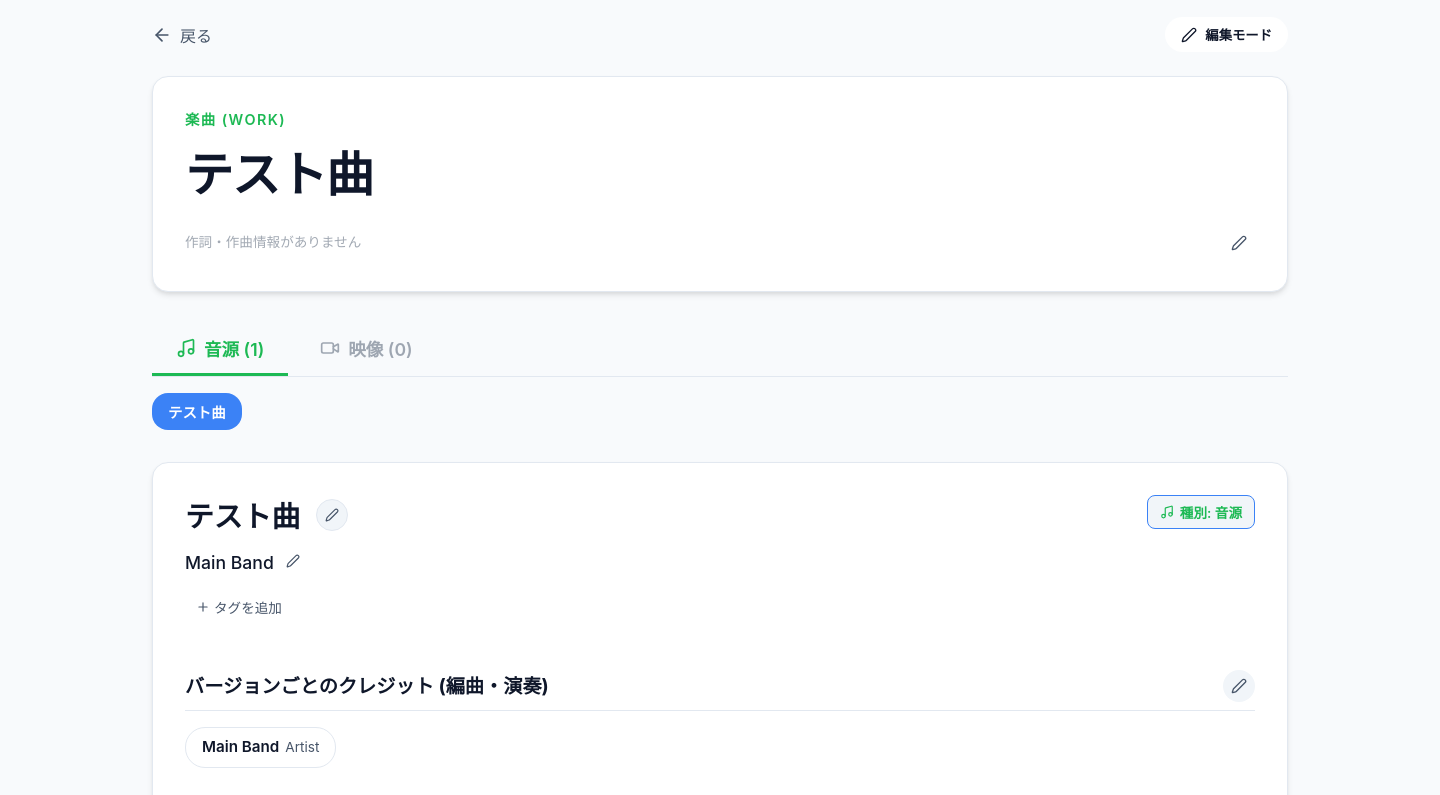
Test: SongDetail クレジット編集シナリオ › クレジット編集ボタン → 2人追加 → 保存 で画面が消えず、2件まとめて登録される
This screenshot has width=1440, height=795.
Click the button titled "クレジットを編集".
click(1239, 686)  # box [1223,670,1255,702]
(page scrolled)
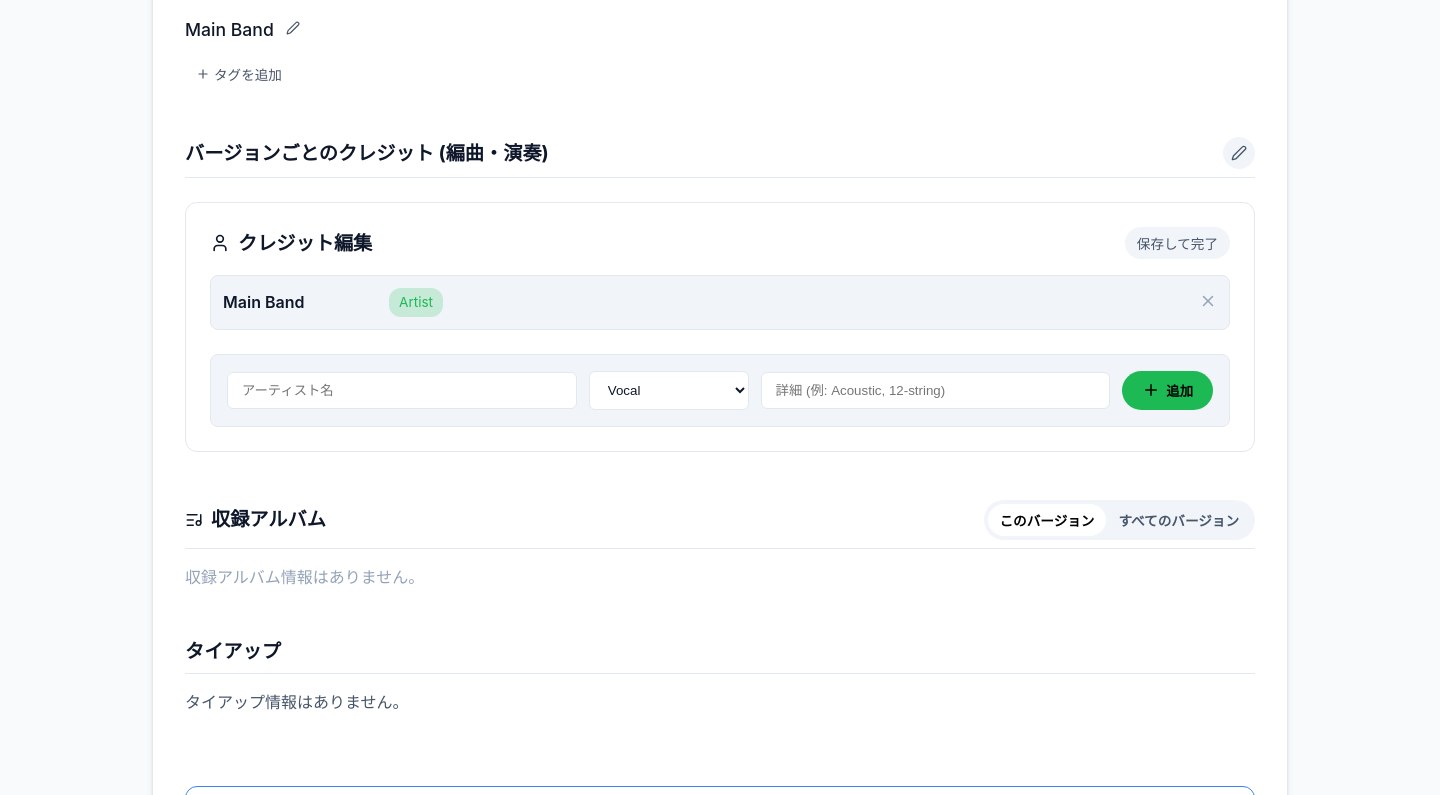
Check: the field with placeholder "アーティスト名" is shown
Type "Guitar Person" into the field with placeholder "アーティスト名".
click(402, 390); type("Guitar Person")  # box [227,372,577,409]
Select "Guitar" in the dropdown at (669, 390), box [589,371,749,410]
Click the button "追加".
click(1168, 390)  # box [1122,371,1213,410]
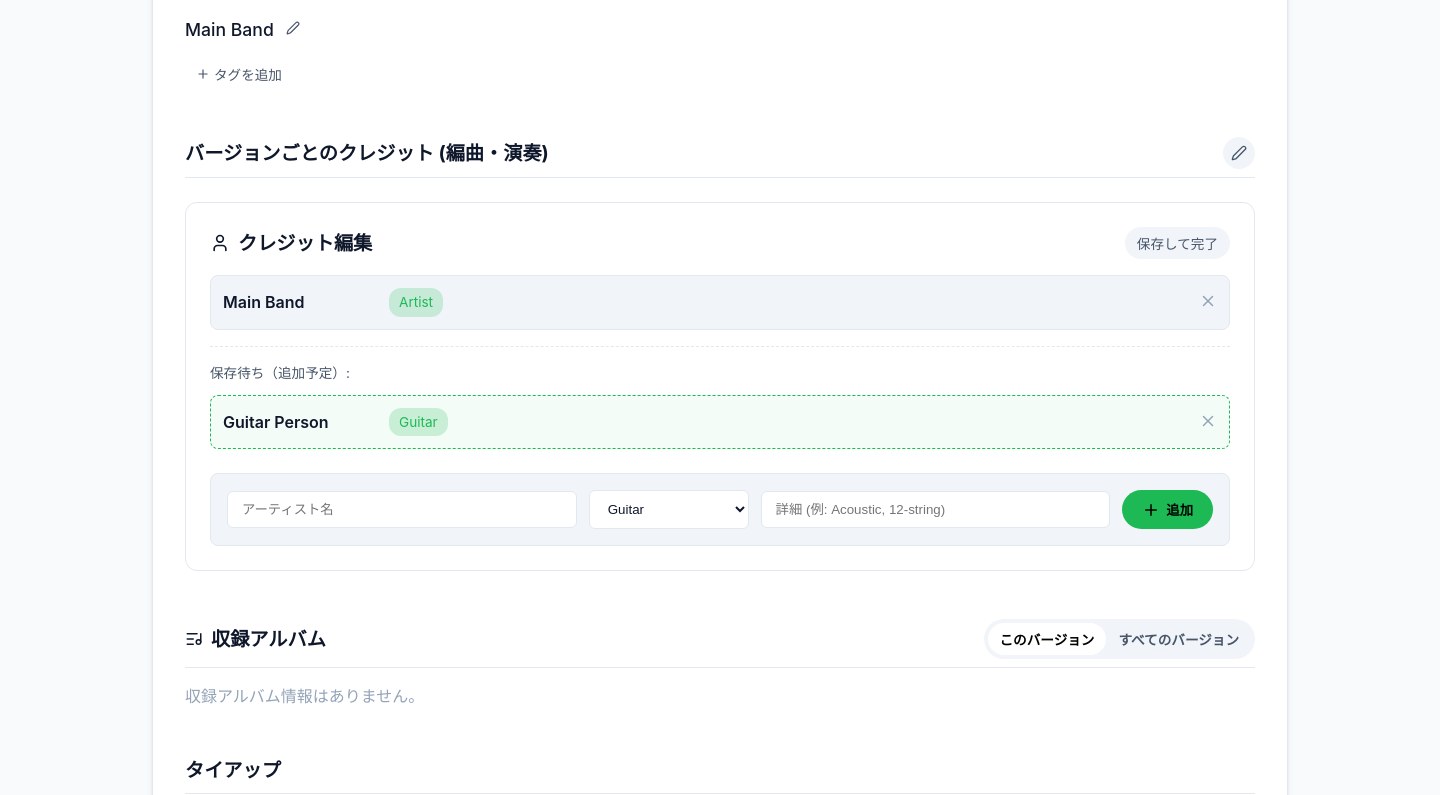
Type "Vocal Person" into the field with placeholder "アーティスト名".
click(402, 510); type("Vocal Person")  # box [227,491,577,528]
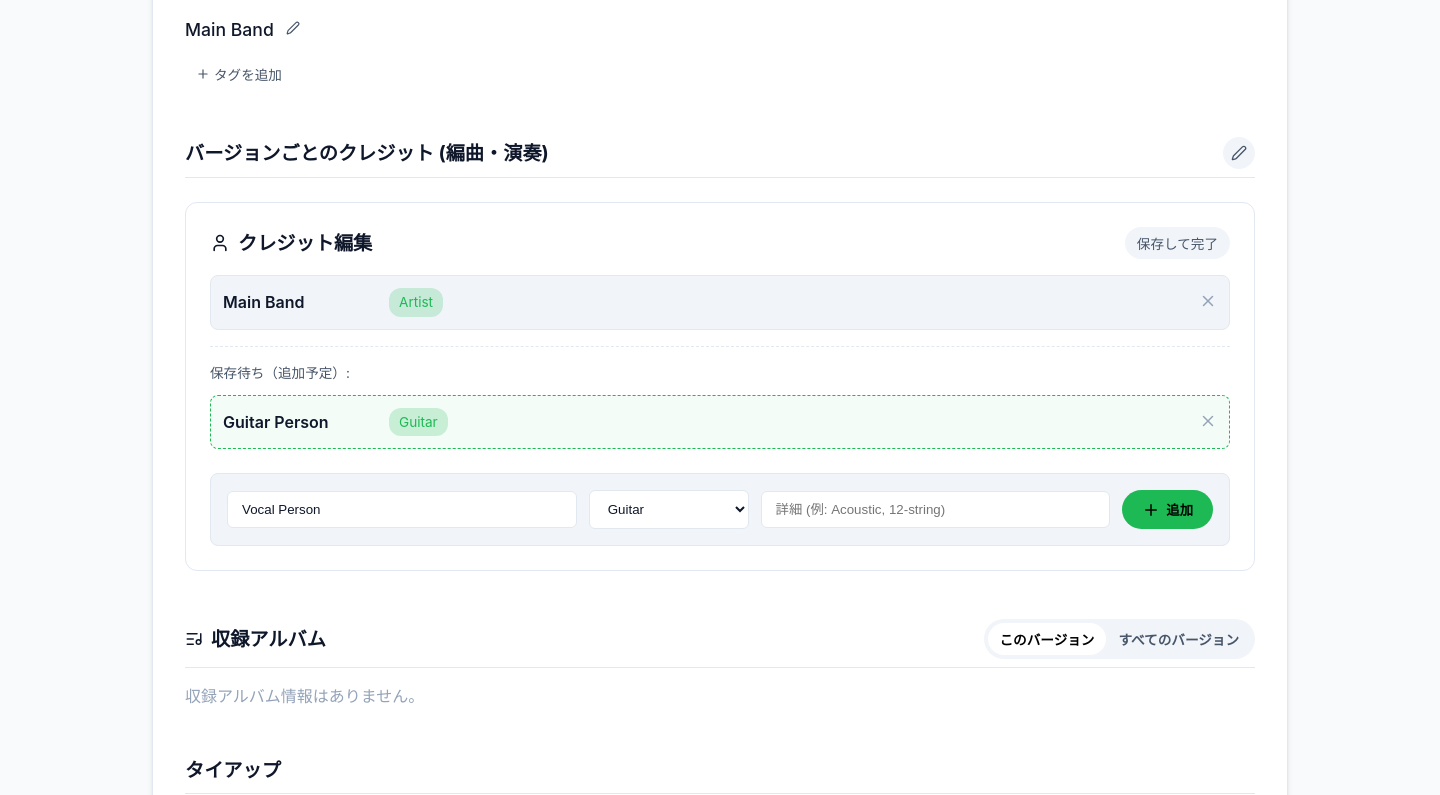
Select "Vocal" in the dropdown at (669, 510), box [589,490,749,529]
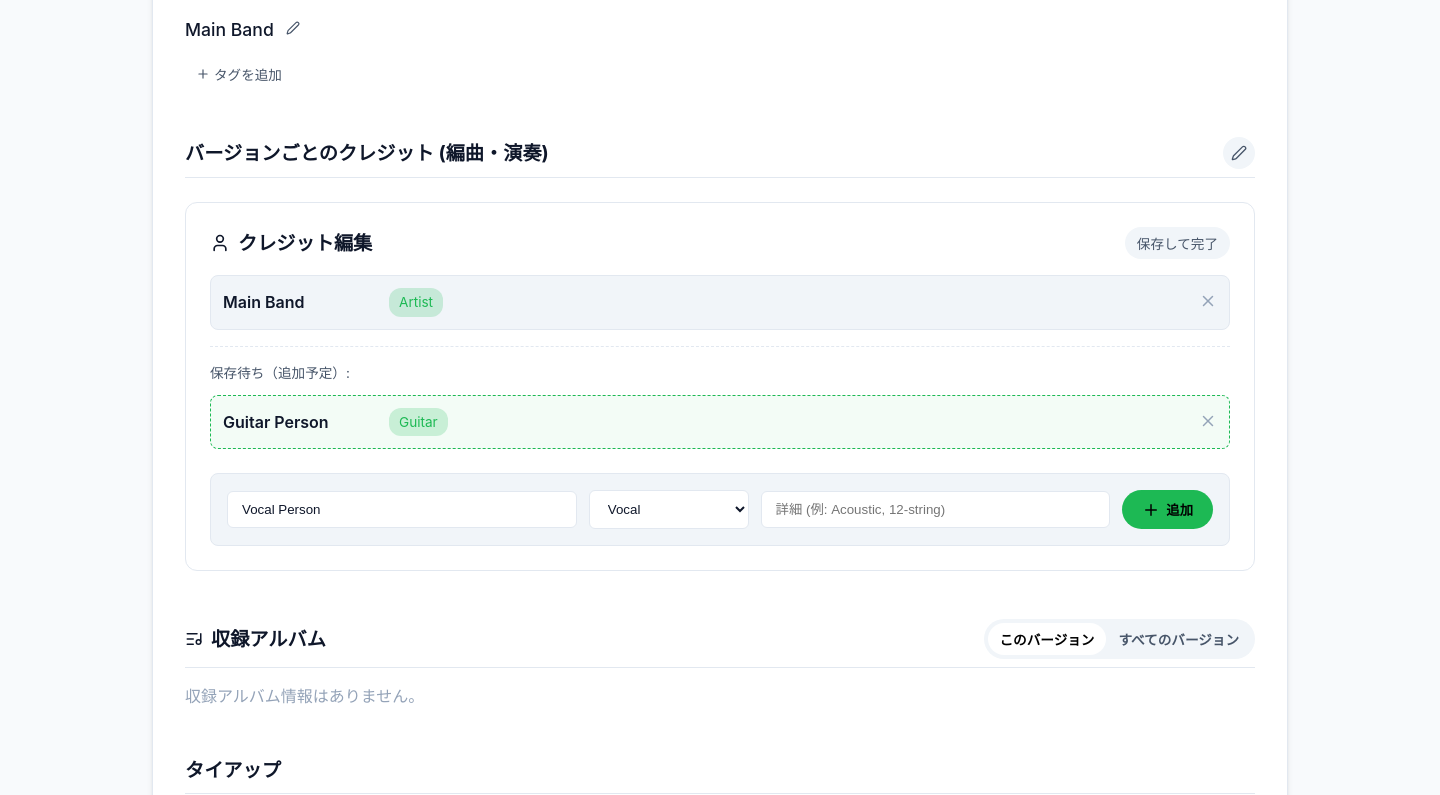
Click the button "追加".
click(1168, 510)  # box [1122,490,1213,529]
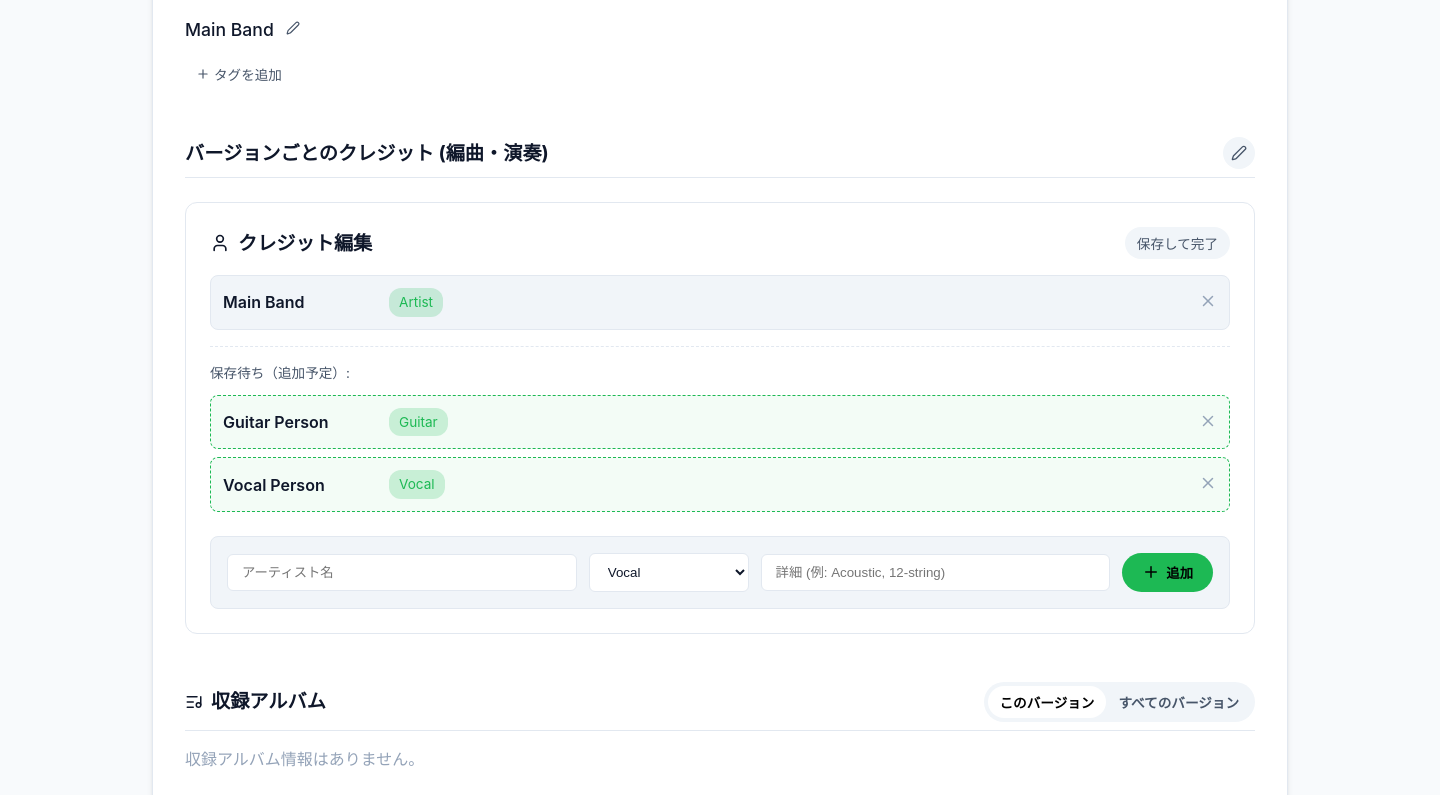
Check: the text "Guitar Person" is shown, box [223,412,329,432]
Check: the text "Vocal Person" is shown, box [223,474,325,494]
Click the button "保存して完了".
click(1177, 243)  # box [1125,227,1230,259]
(page scrolled)
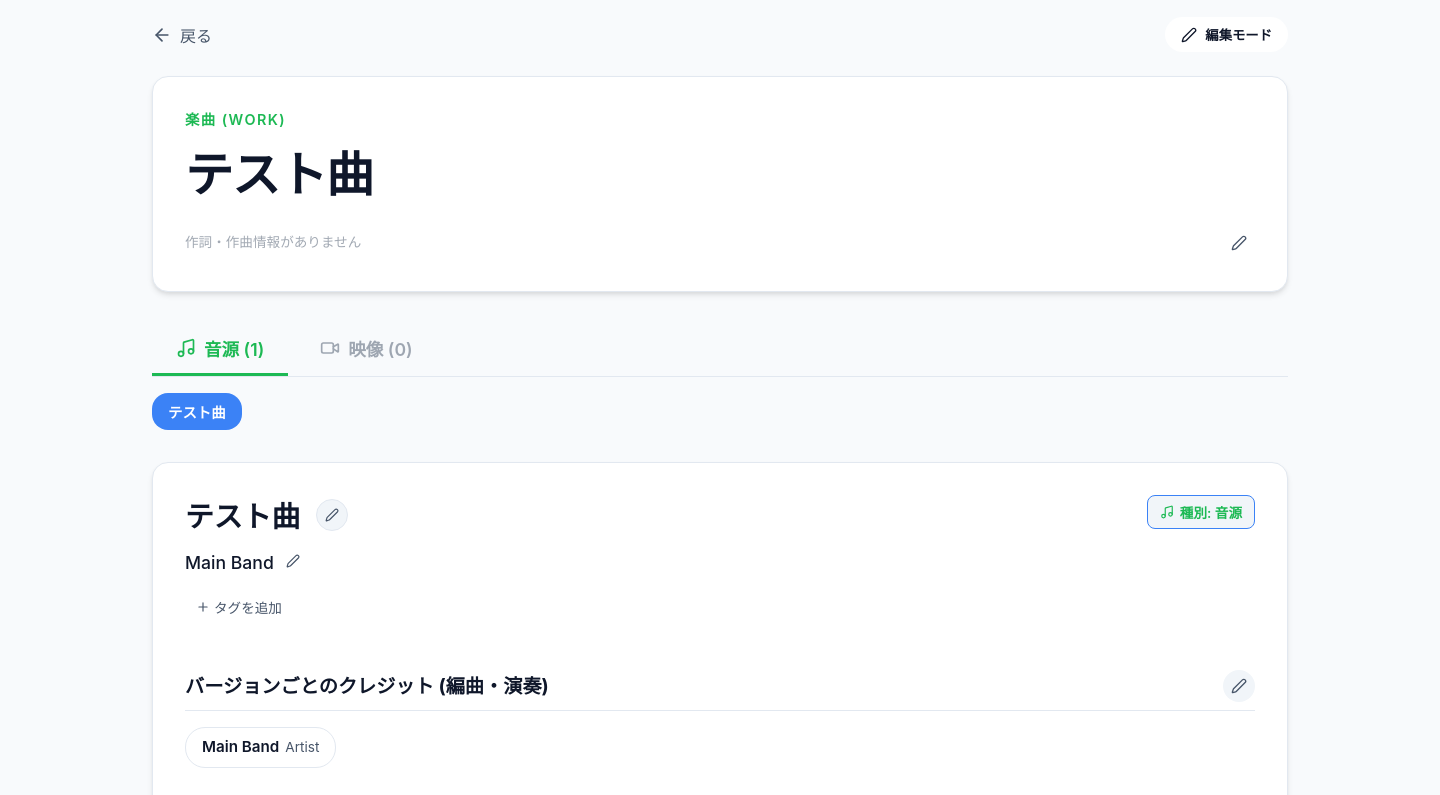
Check: the heading "テスト曲" below "楽曲 (WORK)" is shown, box [185,145,373,204]
Check: the element with test id "song-credit-editor" is gone
